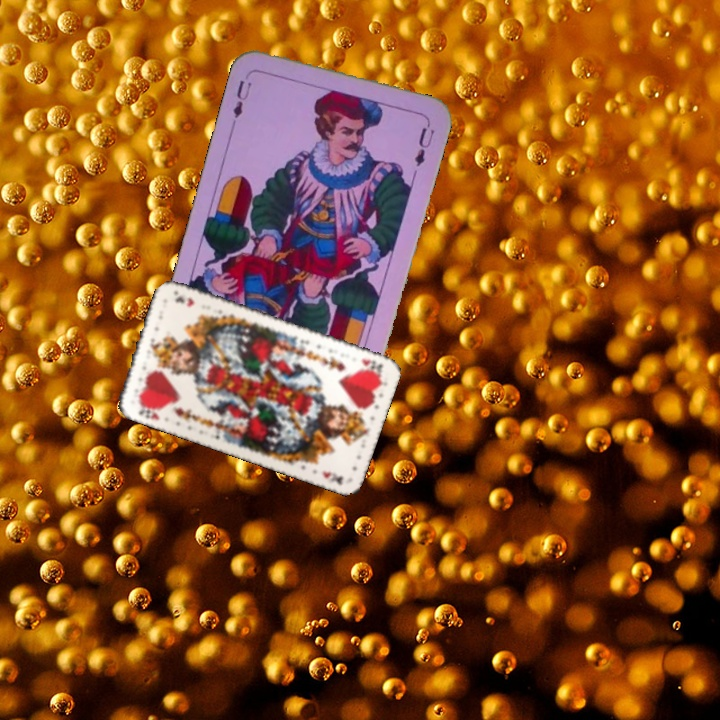EU: (229, 76, 255, 121)
HK: (133, 397, 164, 423), (357, 354, 386, 375)
